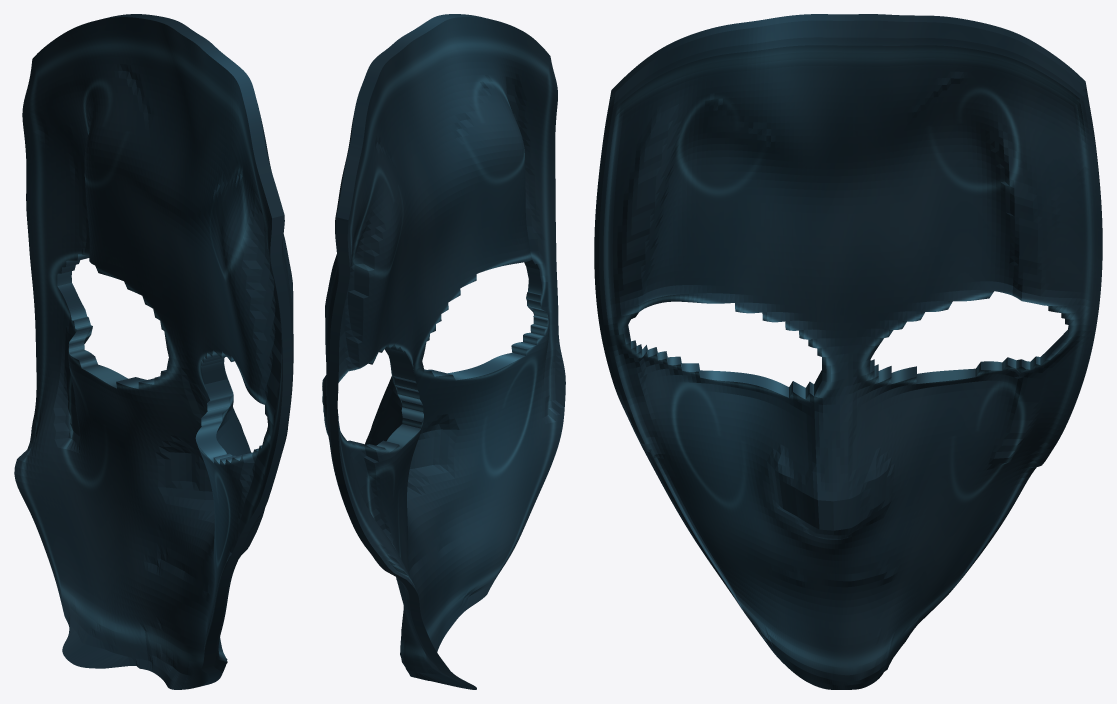
The model's file is side_citizen_portrait_porcelain_mask.glb.
The picture shows the model from 3 angles, left to right: view 1: azimuth 30°, elevation 25°; view 2: azimuth 150°, elevation 25°; view 3: azimuth 270°, elevation 25°; orthographic projection. The views are drawn at different scales.
Parts seen in each view (by area): view 1: geometry_0; view 2: geometry_0; view 3: geometry_0.
Part boxes in pixels (x1,y1,x2,y2): geometry_0: [14, 14, 293, 689]; geometry_0: [322, 14, 565, 689]; geometry_0: [594, 14, 1102, 689].
Size of the model in its own units: 2.98 by 11.92 by 8.06.
1 material, 1 textured.
